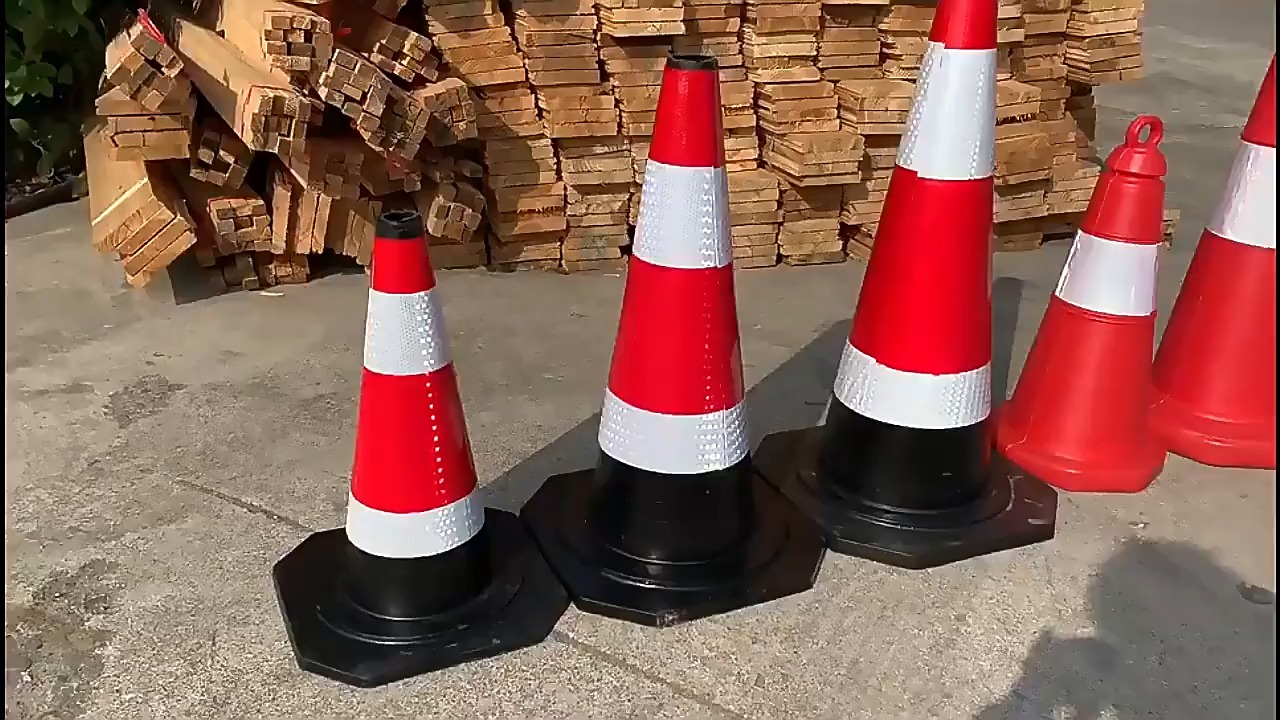traffic_cone: (191, 179, 574, 695), (536, 64, 832, 629), (824, 1, 1066, 584), (985, 66, 1193, 510)
